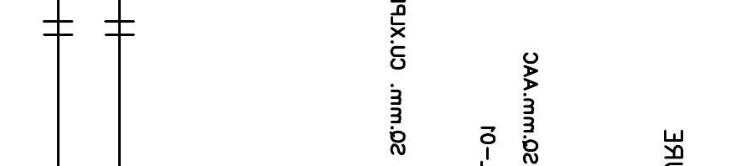115_buffer: (42, 20, 74, 36), (104, 20, 135, 36)
